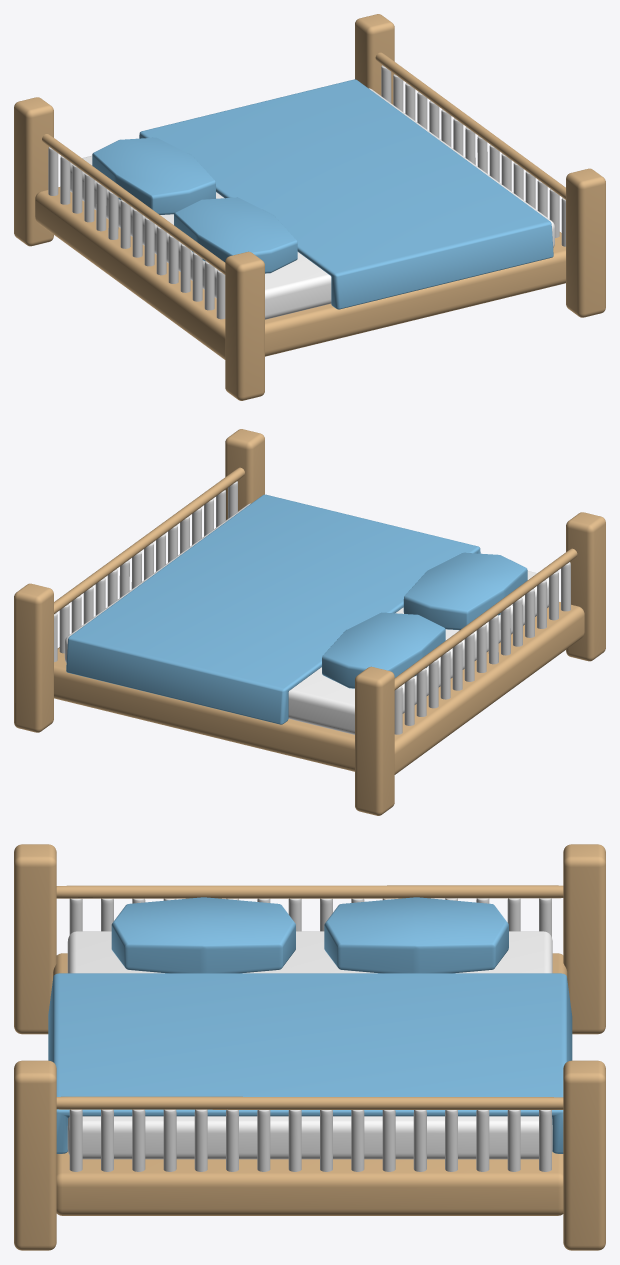
File: simple_double_bed.glb
The picture shows the model from 3 angles, top to bottom: view 1: azimuth 30°, elevation 25°; view 2: azimuth 150°, elevation 25°; view 3: azimuth 270°, elevation 25°; orthographic projection. The views are drawn at different scales.
Visible parts, largest first — view 1: simple_double_bed; view 2: simple_double_bed; view 3: simple_double_bed.
Boxes of the visible parts, box(x1,y1,x2,y2) form: simple_double_bed: box(14, 14, 605, 400); simple_double_bed: box(14, 429, 605, 815); simple_double_bed: box(14, 844, 605, 1250).
Bounding box in the file's own units: 1.88 × 0.6647 × 2.01.
